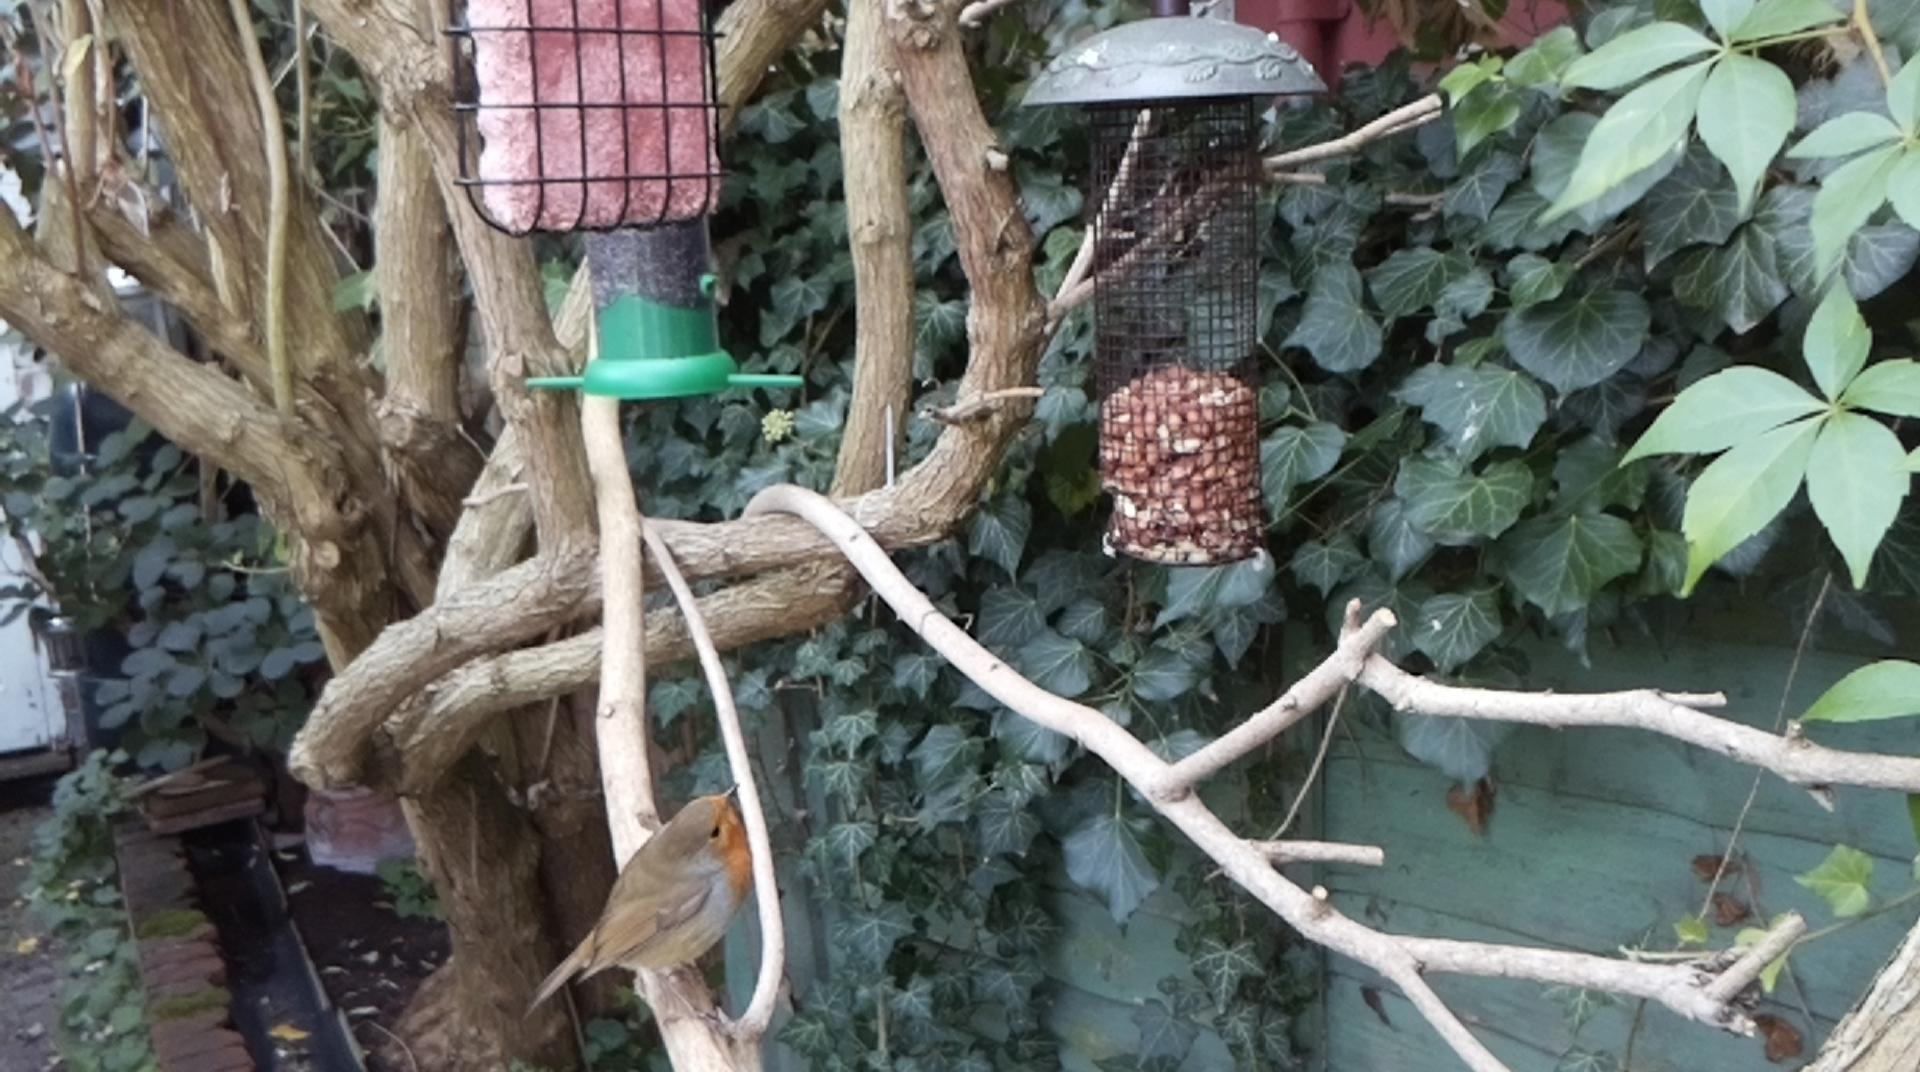robin: (521, 781, 752, 1028)
